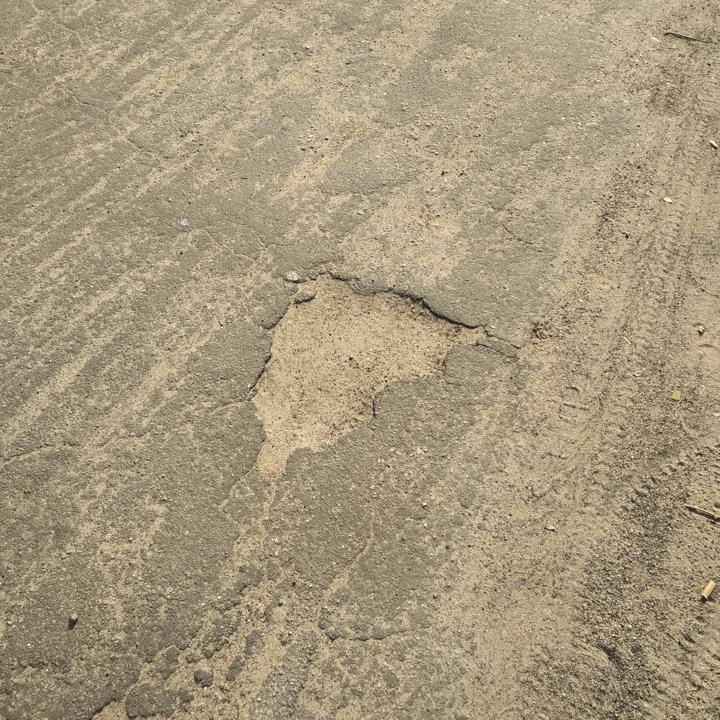pothole: (241, 266, 492, 472)
